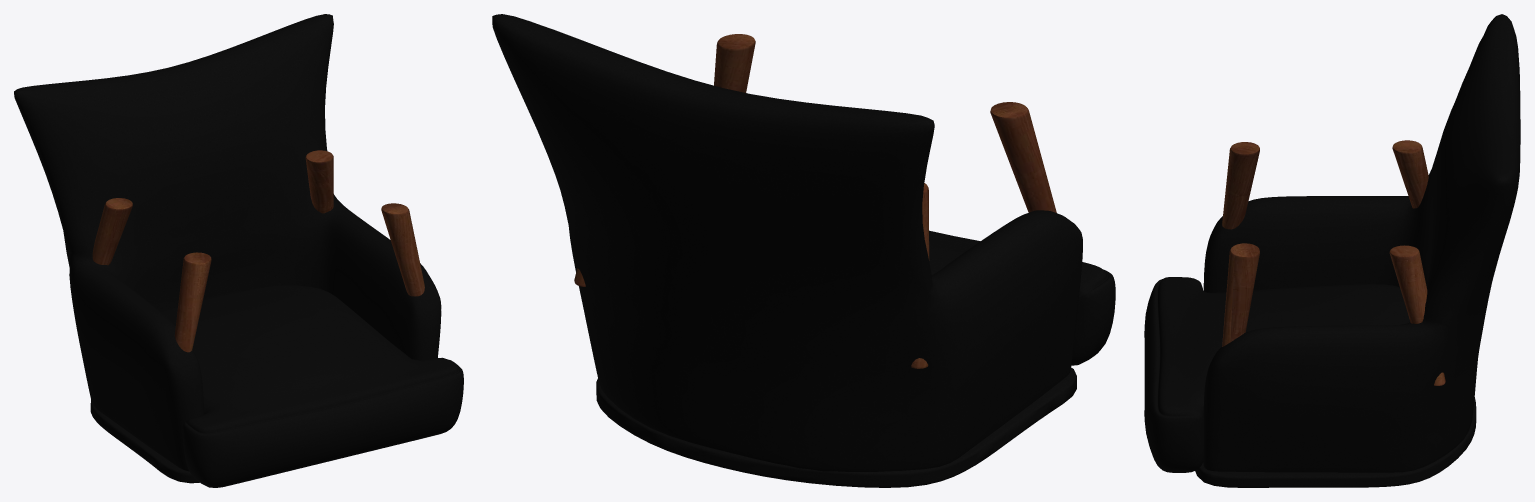
Rendered from armchair_1_processed.glb.
The picture shows the model from 3 angles, left to right: view 1: azimuth 30°, elevation 25°; view 2: azimuth 150°, elevation 25°; view 3: azimuth 270°, elevation 25°; orthographic projection. The views are drawn at different scales.
Parts seen in each view (by area): view 1: Object_3, Object_2; view 2: Object_3, Object_2; view 3: Object_3, Object_2.
Part boxes in pixels (<box>): Object_3: <box>14,14,463,487</box>; Object_2: <box>92,150,424,352</box>; Object_3: <box>492,14,1115,487</box>; Object_2: <box>574,34,1056,368</box>; Object_3: <box>1144,14,1520,487</box>; Object_2: <box>1222,140,1445,385</box>.
Size of the model in its own units: 2261145 by 2043359 by 2149354.
2 materials, 2 textured.
